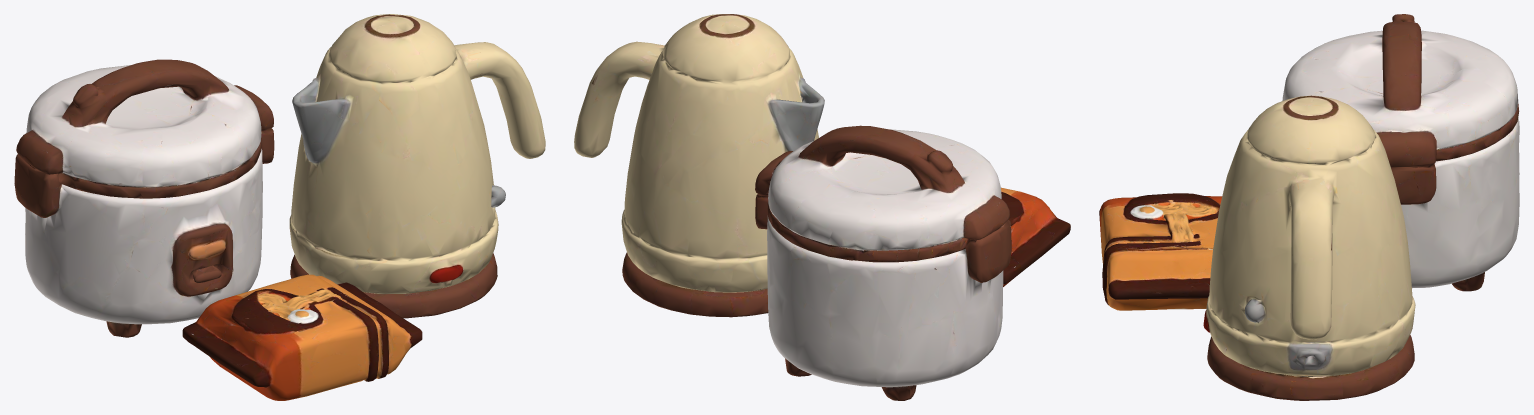
File: kitchen.glb
The picture shows the model from 3 angles, left to right: view 1: azimuth 30°, elevation 25°; view 2: azimuth 150°, elevation 25°; view 3: azimuth 270°, elevation 25°; orthographic projection.
Bounding box in the file's own units: 1.9 × 0.9908 × 1.48.
1 material, 1 textured.
